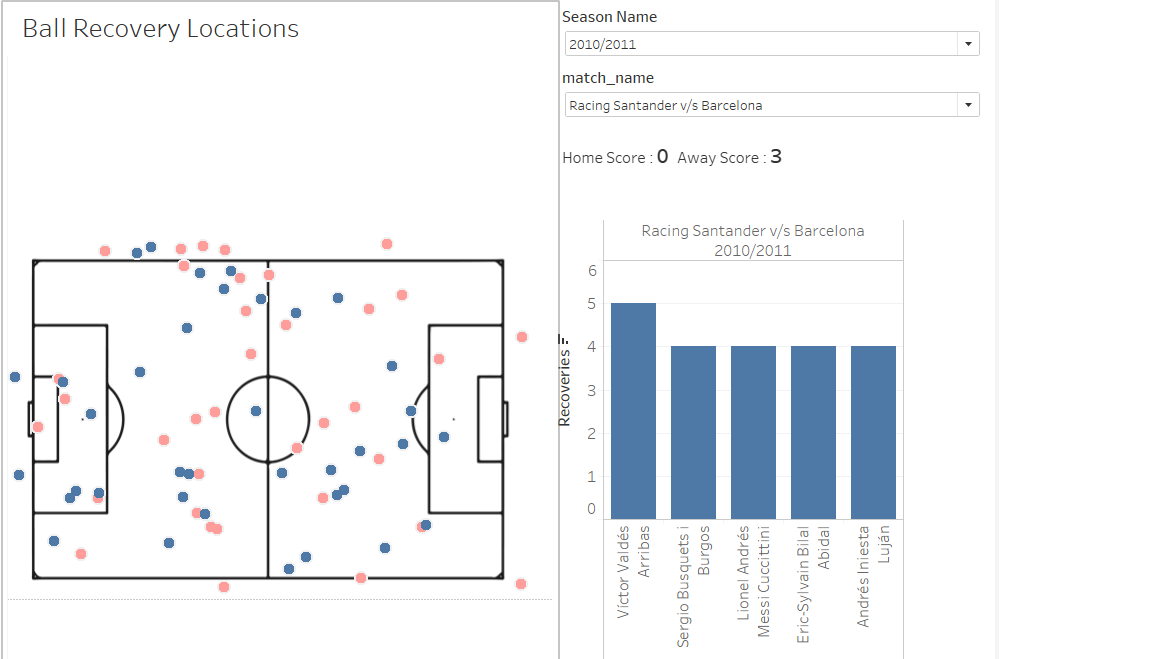

Layout of this report page (visuals, bound fields, positions):
{"tool":"tableau","page":{"name":"Dashboard 2","canvas":[1000,800],"ordinal":1},"visuals":[{"type":"worksheet","box":[0,0,1000,800]},{"type":"worksheet","param":"horz","box":[8,8,984,784]},{"type":"worksheet","box":[8,8,555,784]},{"type":"worksheet","title":"locations","mark":"Automatic","rows":["location_y"],"cols":["location_x"],"box":[8,8,555,784]},{"type":"worksheet","param":"vert","box":[563,8,429,784]},{"type":"worksheet","title":"locations","mark":"Automatic","rows":["location_y"],"cols":["location_x"],"param":"[federated.1xq2d7d0933p2p1cghv5w1x0lxic].[none:season_name:nk]","box":[563,8,429,61]},{"type":"worksheet","title":"locations","mark":"Automatic","rows":["location_y"],"cols":["location_x"],"param":"[federated.1xq2d7d0933p2p1cghv5w1x0lxic].[none:match_name:nk]","box":[563,69,429,61]},{"type":"worksheet","title":"scores","mark":"Automatic","box":[563,147,424,145]},{"type":"worksheet","title":"players_match","mark":"Automatic","rows":["recoveries"],"cols":["match_name","season_name","player_name"],"box":[558,226,406,440]},{"type":"worksheet","box":[143,617,139,30]}]}

Visuals, with their boxes on the page's 1000x800 design canvas (x1, y1, x2, y2). These are canvas units, not pixel positions in the 1152x659 screenshot, which may show the page scaled, cropped or inside an application window:
worksheet: locate(0, 0, 1000, 800)
worksheet: locate(8, 8, 992, 792)
worksheet: locate(8, 8, 563, 792)
"locations" worksheet: locate(8, 8, 563, 792)
worksheet: locate(563, 8, 992, 792)
"locations" worksheet: locate(563, 8, 992, 69)
"locations" worksheet: locate(563, 69, 992, 130)
"scores" worksheet: locate(563, 147, 987, 292)
"players_match" worksheet: locate(558, 226, 964, 666)
worksheet: locate(143, 617, 282, 647)
